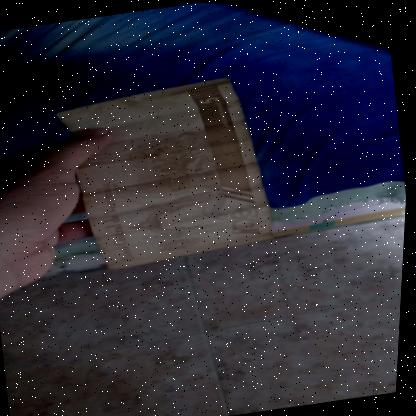five-back-vef: (49, 69, 284, 277)
